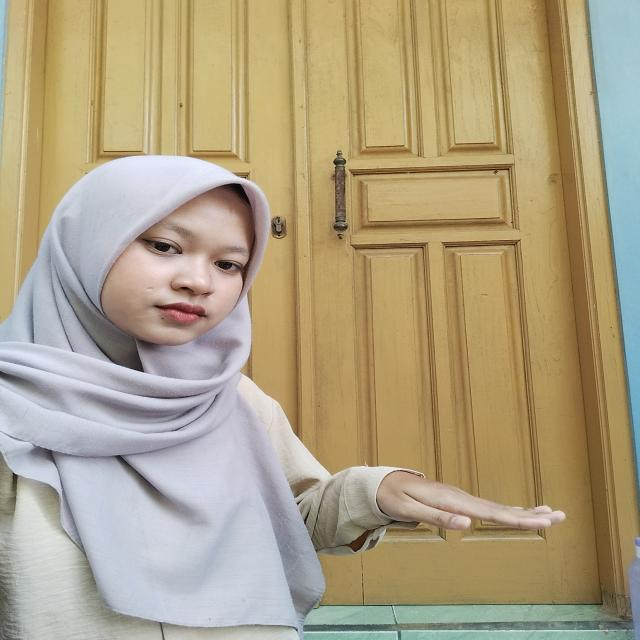adik: (347, 458, 574, 570)
